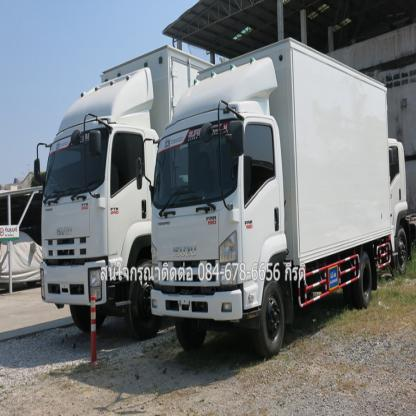Wheel hub: (266, 294, 280, 342), (398, 237, 406, 268), (362, 265, 368, 298)
